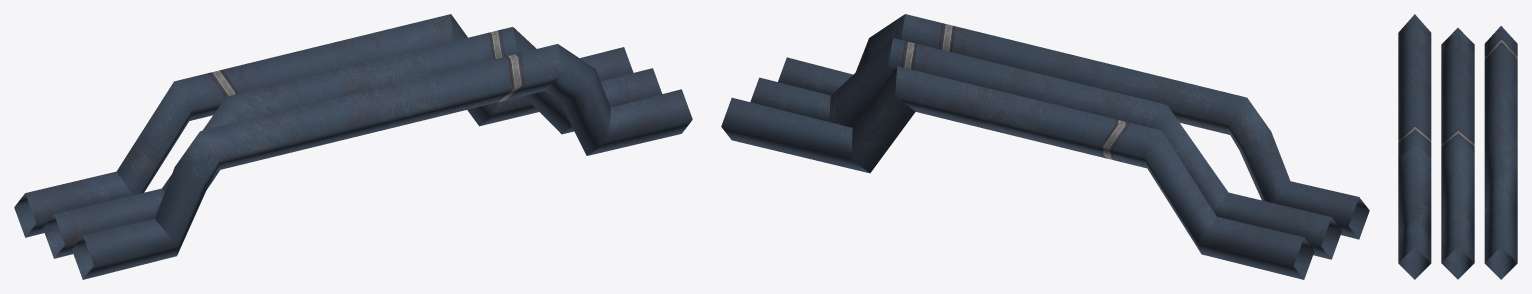
Rendered from PIpe3_F_L2.fbx.
3 renders of one model, left to right at view 1: azimuth 30°, elevation 25°; view 2: azimuth 150°, elevation 25°; view 3: azimuth 270°, elevation 25°, orthographic. The views are drawn at different scales.
Visible parts, largest first — view 1: PIpe3_F_L2; view 2: PIpe3_F_L2; view 3: PIpe3_F_L2.
Part boxes in pixels (bbox=[...]): PIpe3_F_L2: bbox=[14, 14, 692, 279]; PIpe3_F_L2: bbox=[721, 14, 1369, 279]; PIpe3_F_L2: bbox=[1398, 14, 1517, 279].
Bounding box in the file's own units: 200 × 38.37 × 46.16.
